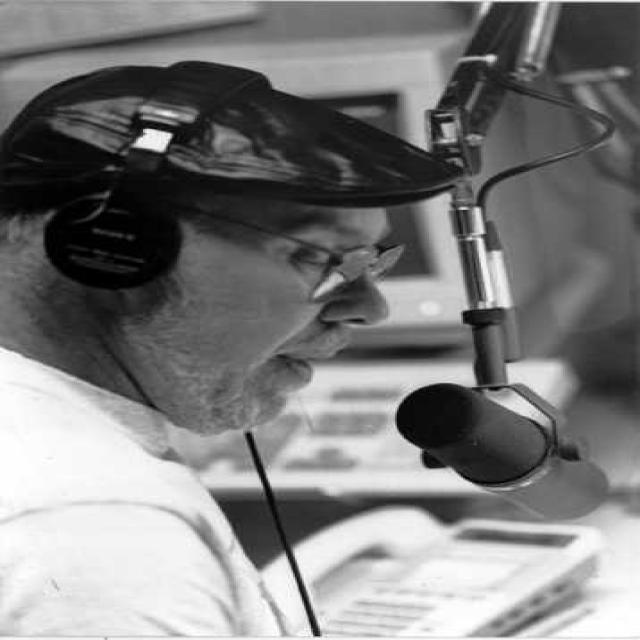microphone: (394, 373, 612, 530)
